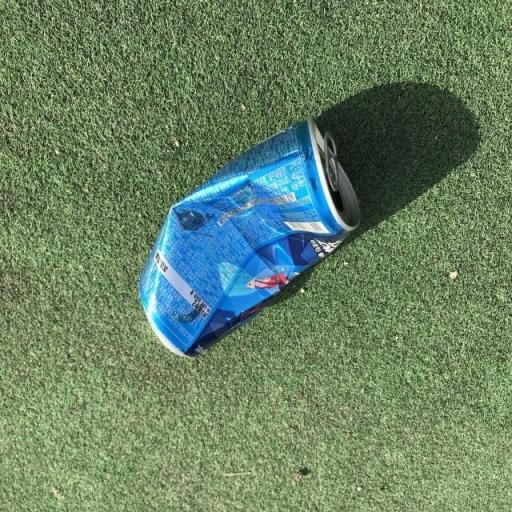metal: (120, 107, 391, 370)
